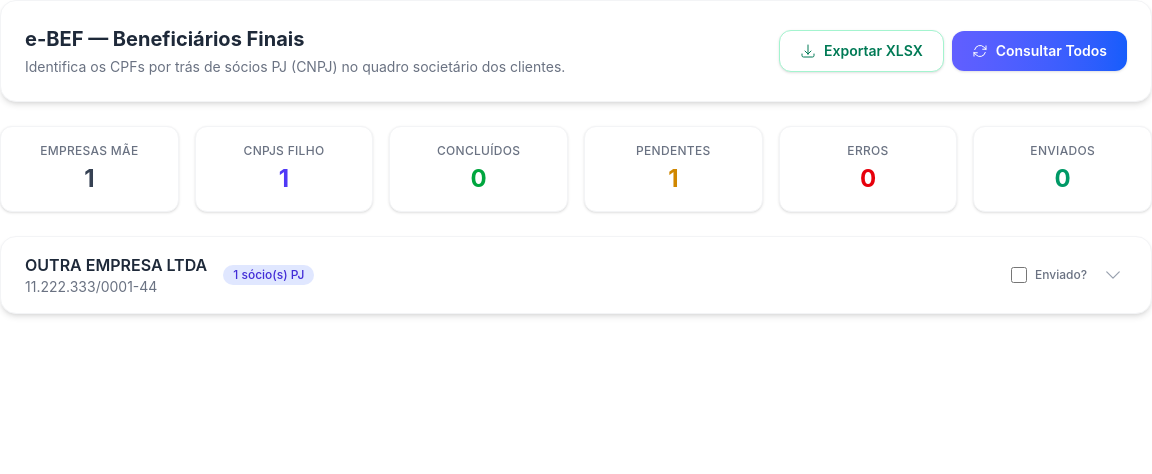
Test: EBEFTab › exibe badge Pendente e mensagem para filho sem consulta
The width and height of the screenshot is (1152, 474).
Click the text "OUTRA EMPRESA LTDA".
click(116, 265)  # box left=25, top=253, right=207, bottom=277
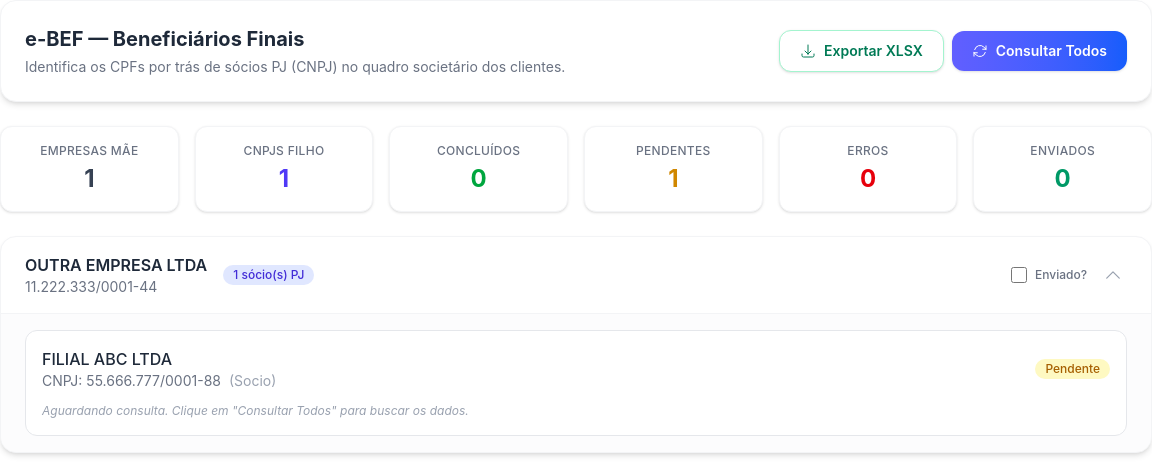
Result: the text "Pendente" is shown at left=1035, top=359, right=1110, bottom=379
Result: the text "Aguardando consulta" is shown at left=42, top=403, right=469, bottom=418
